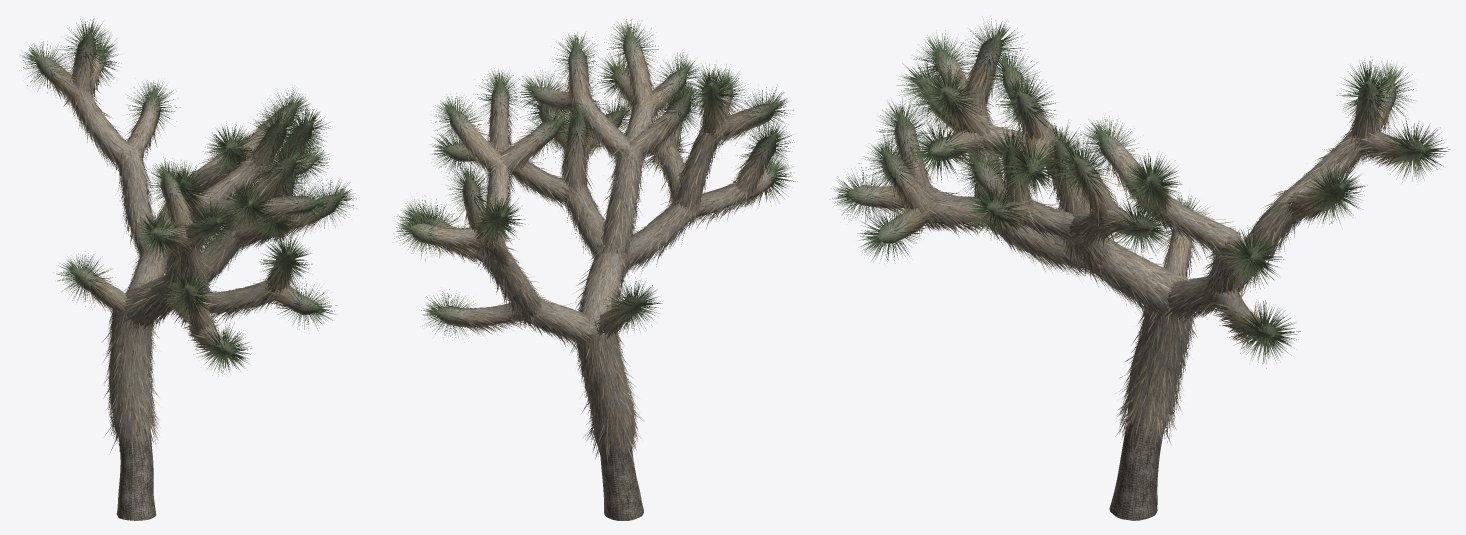
File: joshua_c.glb
3 views of the same model, side by side, from view 1: azimuth 30°, elevation 25°; view 2: azimuth 150°, elevation 25°; view 3: azimuth 270°, elevation 25° (orthographic). The views are drawn at different scales.
Visible parts, largest first — view 1: joshua_c; view 2: joshua_c; view 3: joshua_c.
Boxes of the visible parts, x1,y1,x2,y2 form: joshua_c: (20, 18, 356, 520); joshua_c: (393, 18, 795, 520); joshua_c: (829, 18, 1450, 520).
Bounding box in the file's own units: 4.76 × 6.96 × 7.97.
Materials: 3 (3 with a texture image).
